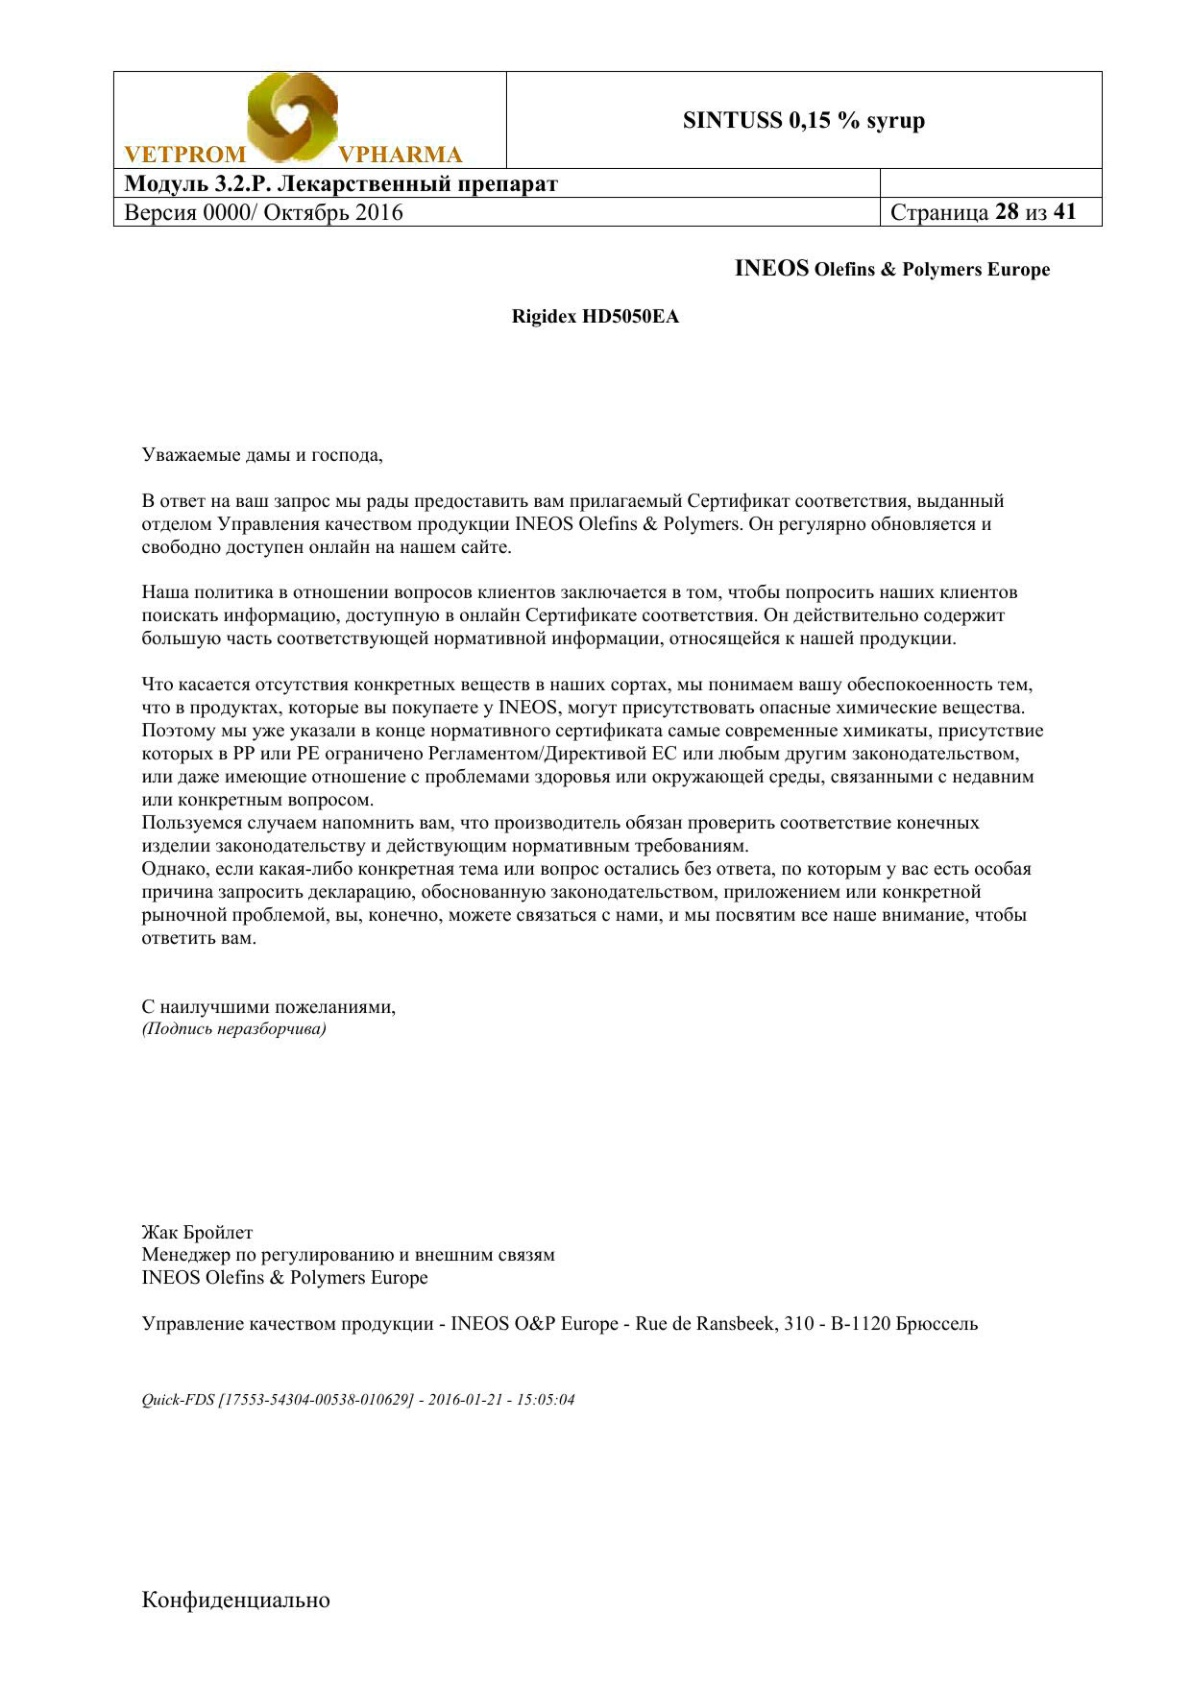merged_cells: (112, 70, 1104, 228)
